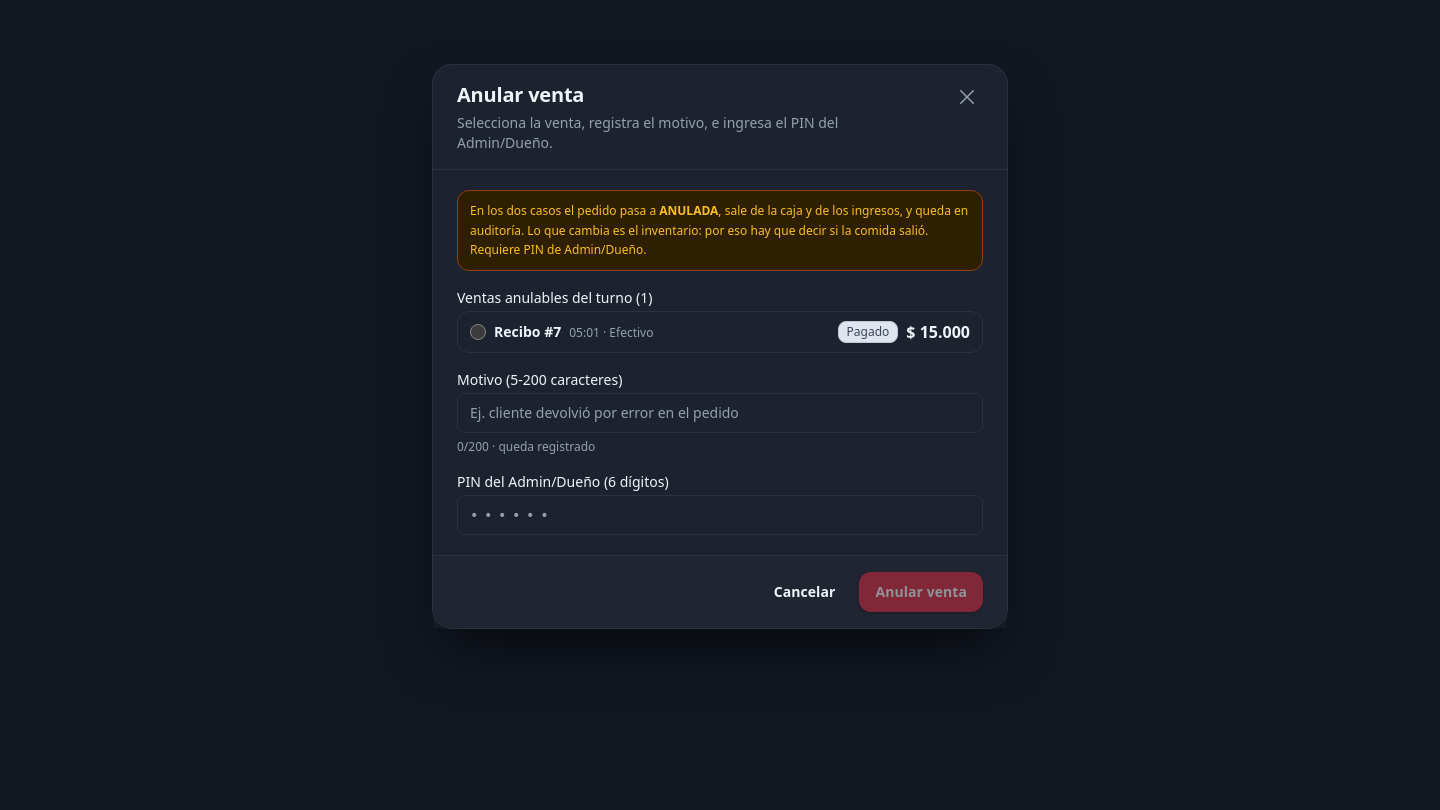
Test case: VoidModal › el input de PIN descarta lo no-numérico y corta en 6
Expected: the text "Recibo #7" is shown, top-left (494, 322), bottom-right (561, 340)
Type "12ab34cd5678" into the password field with placeholder "••••••". click: (720, 514)
box: top-left (457, 494), bottom-right (983, 534)
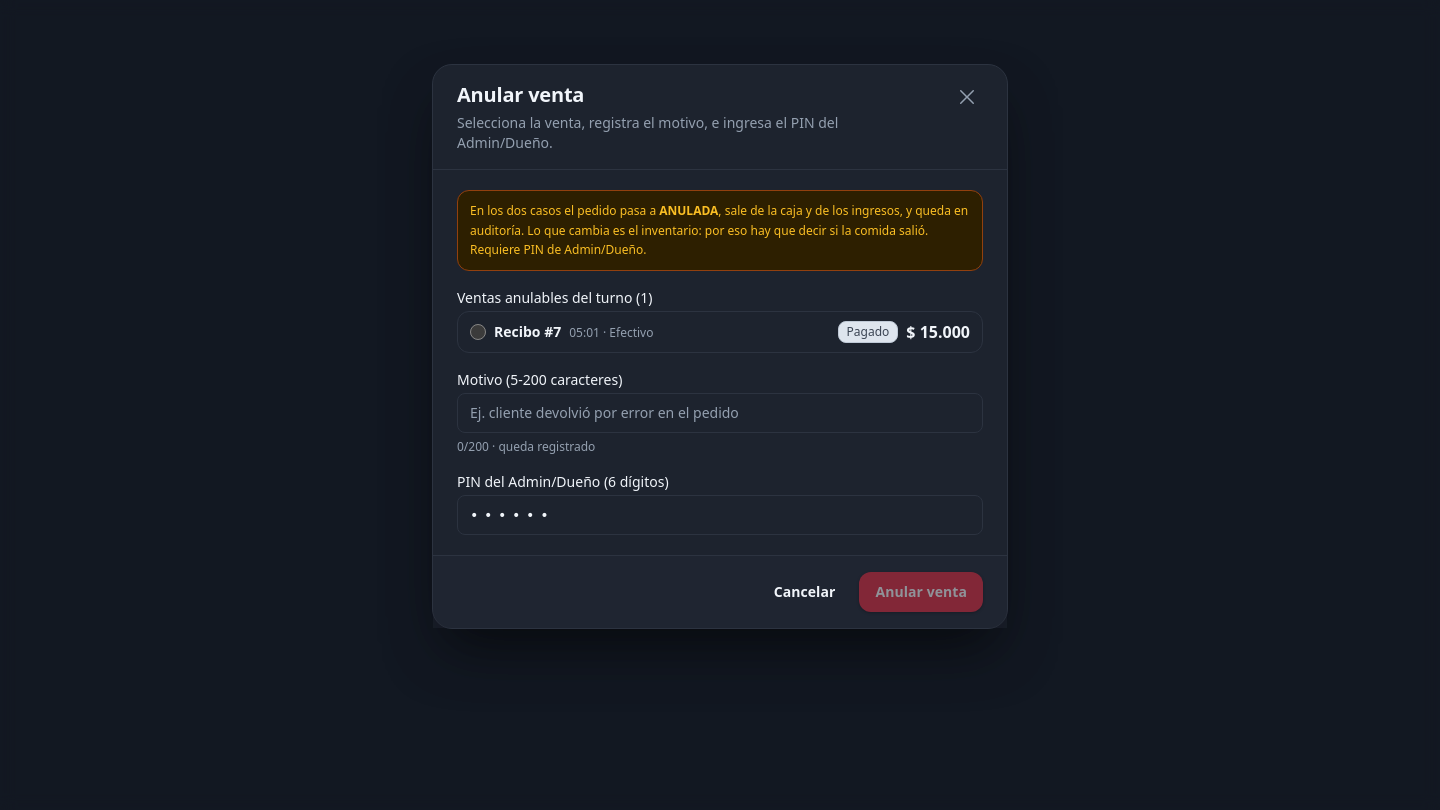
Now the password field with placeholder "••••••" holds "123456", box top-left (457, 494), bottom-right (983, 534)
